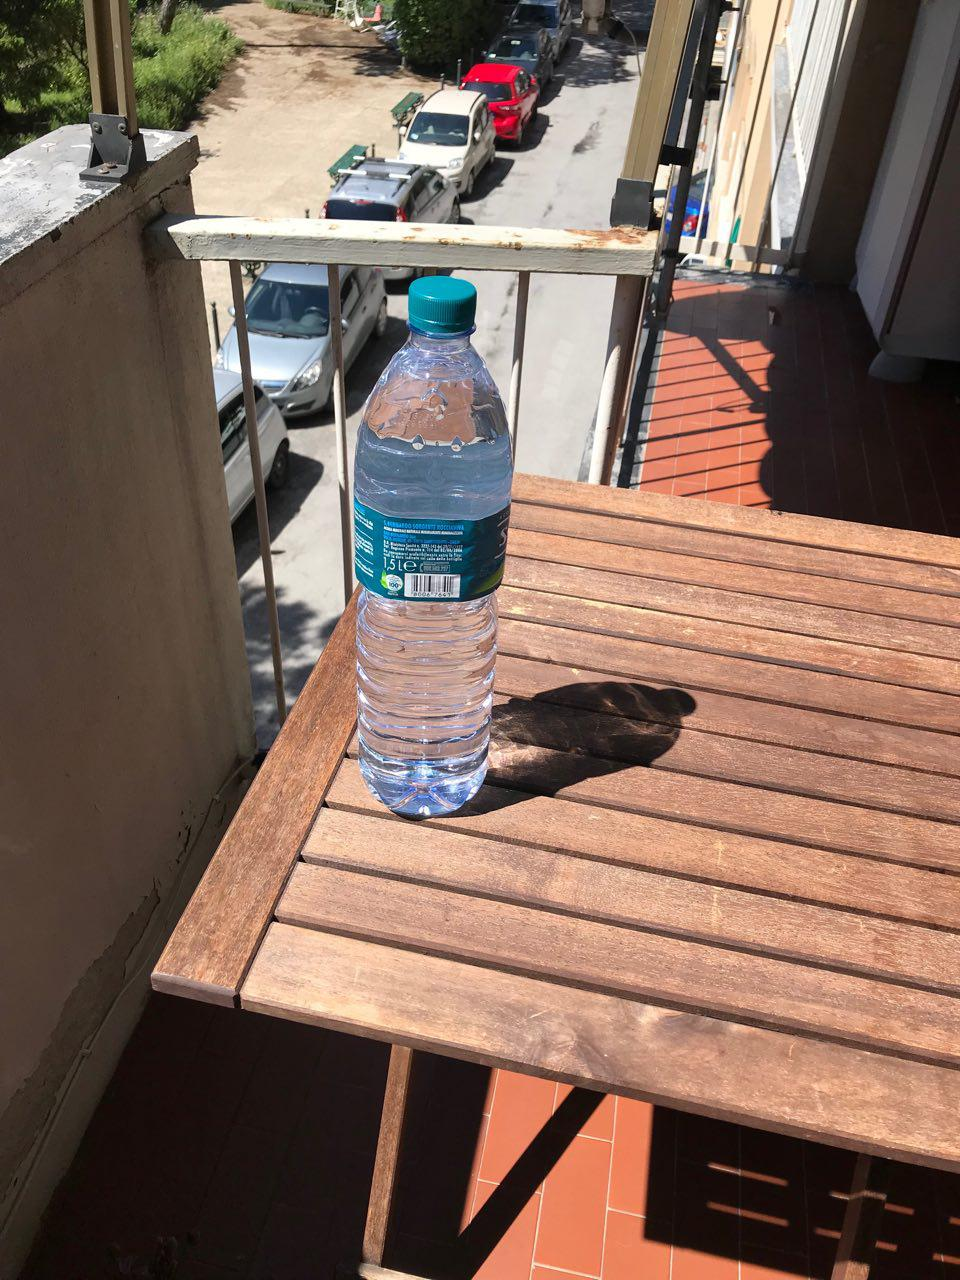san_bernardo: (354, 274, 514, 814)
